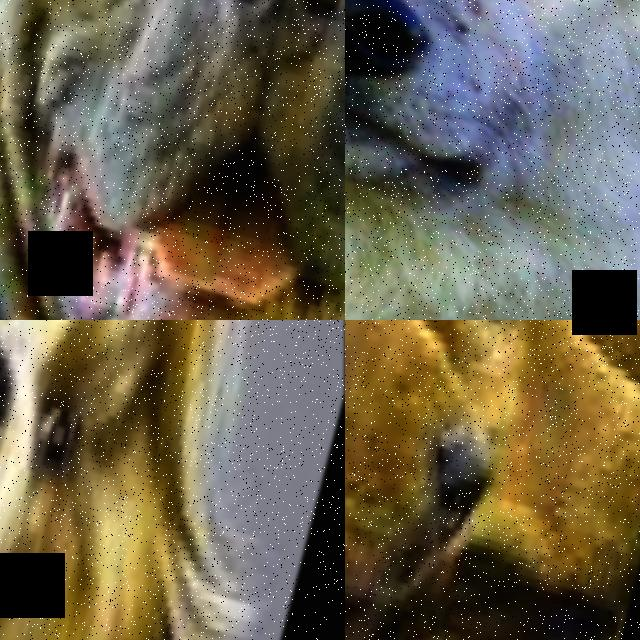dog: (0, 0, 345, 320), (0, 320, 345, 640), (345, 320, 640, 640), (363, 320, 640, 640), (345, 320, 581, 640)
wolf: (345, 0, 640, 320)
